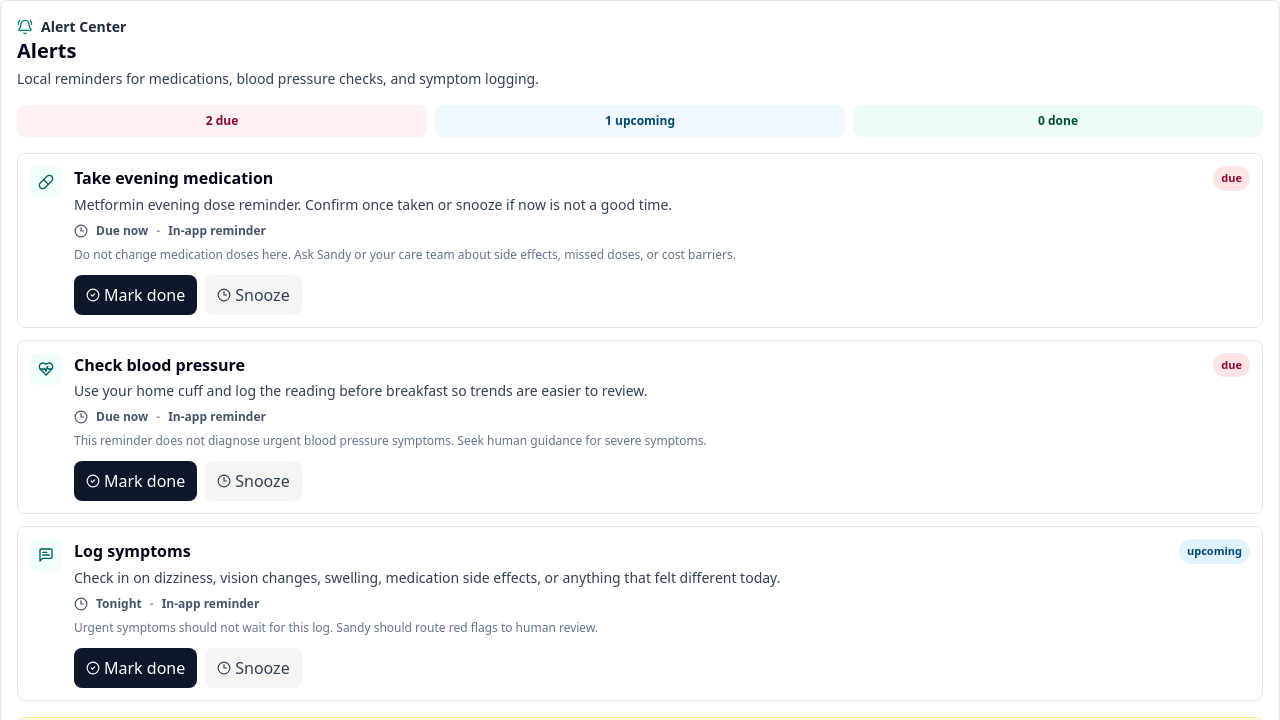
HealthAlertCenter › snoozes a blood pressure alert
Click the button with aria-label "Snooze Check blood pressure".
click(253, 481)  # box [205, 461, 302, 501]
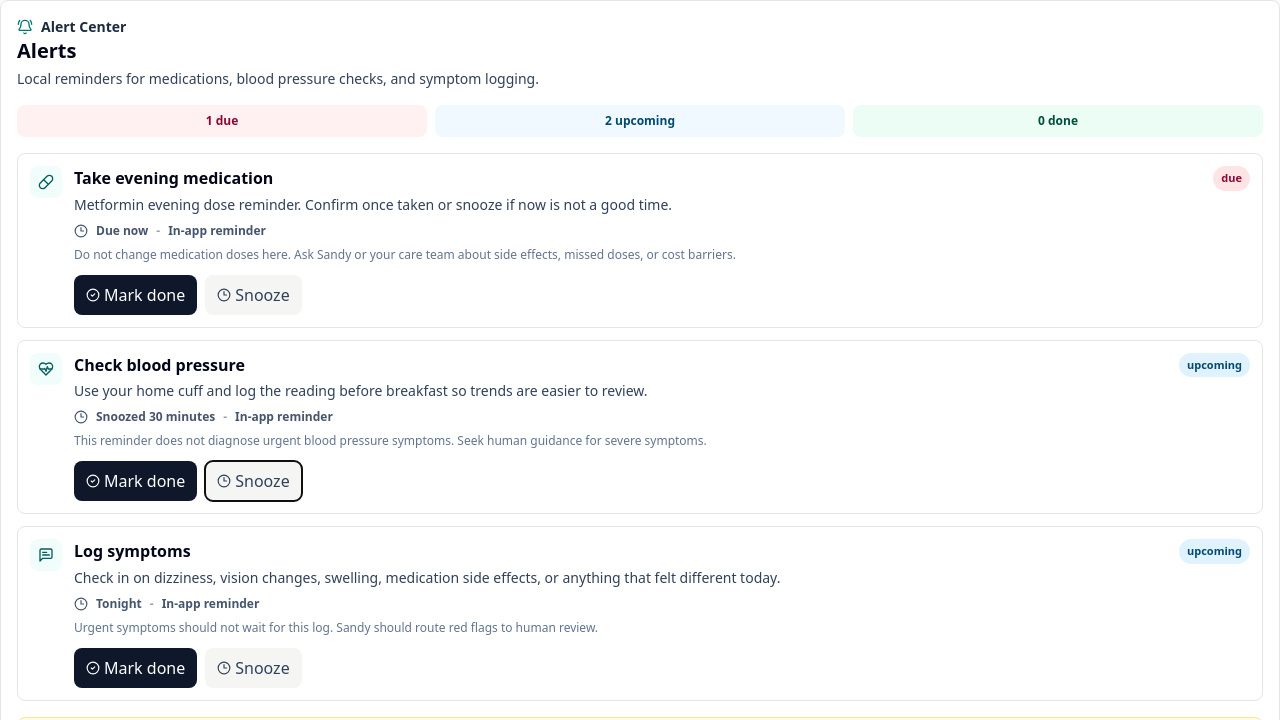
Now the text "1 due" is shown, box [17, 105, 427, 137]
Now the text "2 upcoming" is shown, box [435, 105, 845, 137]
Now the text "Snoozed 30 minutes" is shown, box [96, 409, 215, 425]
